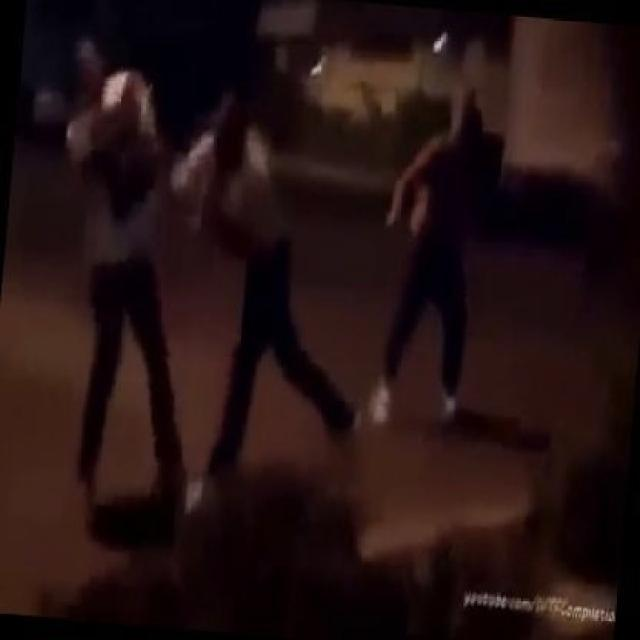fight: (9, 2, 397, 564)
non-fight: (370, 75, 492, 430)
